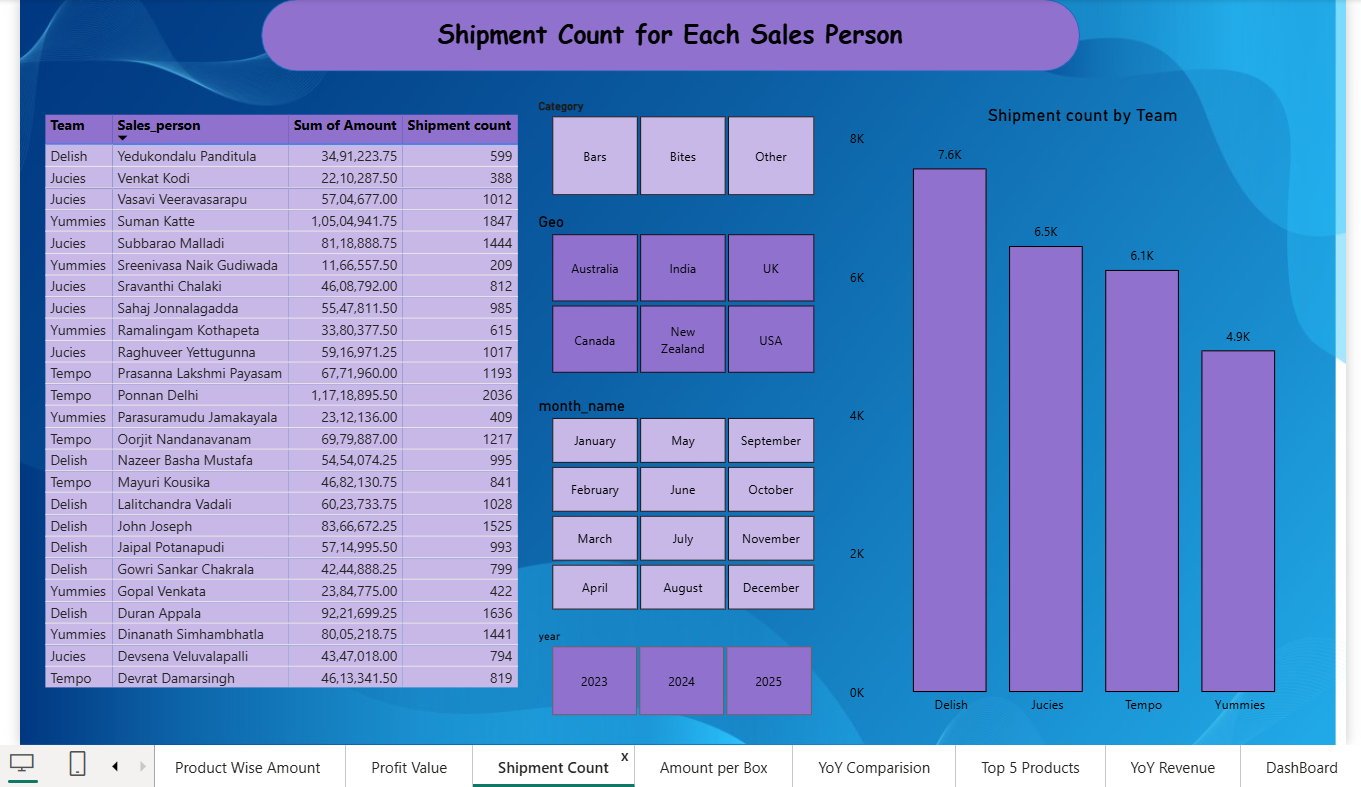

This screenshot's page, from the dashboard's own definition file:
{"tool":"powerbi","page":{"name":"Shipment Count","canvas":[1280,720],"ordinal":2},"visuals":[{"type":"tableEx","fields":{"Values":["people.Team","people.Sales_person","Sum(shipments.Amount)","shipments.Shipment count"]},"box":[18.1,91.7,469.3,606.8],"z":0},{"type":"clusteredColumnChart","fields":{"Category":["people.Team"],"Y":["shipments.Shipment count"]},"box":[790.4,91.9,466,607],"z":1000},{"type":"slicer","fields":{"Values":["products.Category"]},"box":[487.4,91.7,302.8,105],"z":2000},{"type":"slicer","fields":{"Values":["locations.Geo"]},"box":[487.4,201.5,302.8,166.5],"z":3000},{"type":"slicer","fields":{"Values":["calendar.month_name"]},"box":[487.4,378.8,302.8,217.2],"z":4000},{"type":"shape","box":[232.8,0,790.2,70],"z":5000},{"type":"slicer","fields":{"Values":["calendar.year"]},"box":[487.4,603.2,300.4,95.3],"z":6000},{"type":"textbox","title":"Shipment Count for Each Sales Person","box":[253.4,15.7,748,36.2],"z":7500}]}

Visuals, with their boxes on the page's 1280x720 design canvas (x1, y1, x2, y2). These are canvas units, not pixel positions in the 1361x787 screenshot, which may show the page scaled, cropped or inside an application window:
tableEx - people.Team x people.Sales_person: {"left": 18, "top": 92, "right": 487, "bottom": 698}
clusteredColumnChart - people.Team x shipments.Shipment count: {"left": 790, "top": 92, "right": 1256, "bottom": 699}
slicer - products.Category: {"left": 487, "top": 92, "right": 790, "bottom": 197}
slicer - locations.Geo: {"left": 487, "top": 202, "right": 790, "bottom": 368}
slicer - calendar.month_name: {"left": 487, "top": 379, "right": 790, "bottom": 596}
shape: {"left": 233, "top": 0, "right": 1023, "bottom": 70}
slicer - calendar.year: {"left": 487, "top": 603, "right": 788, "bottom": 698}
"Shipment Count for Each Sales Person" textbox: {"left": 253, "top": 16, "right": 1001, "bottom": 52}
